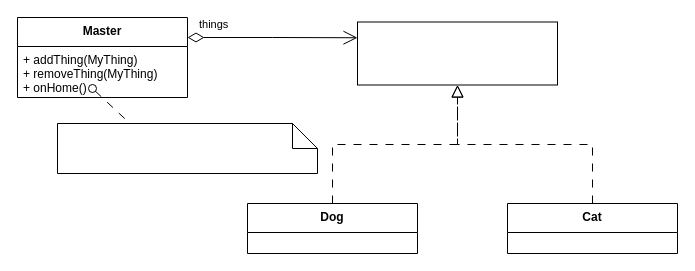
Image size: 695x271. Some labels were removed from this diagram. The shapes that lost their labels are listed below. From the top down, each one's centre as x and y in pixels, then its label:
At (457,53): "<<Interface>> MyThing + doSomethingWhenIGoHome()".
At (187,148): "for (MyThing thing : things) { thing.doSomethingWhenIGoHome(); }".
